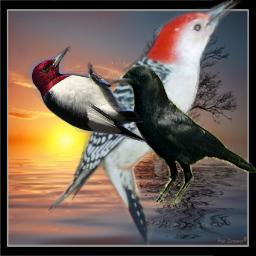Crow: (108, 65, 256, 205)
Woodpecker: (48, 0, 241, 252), (25, 45, 154, 143)
